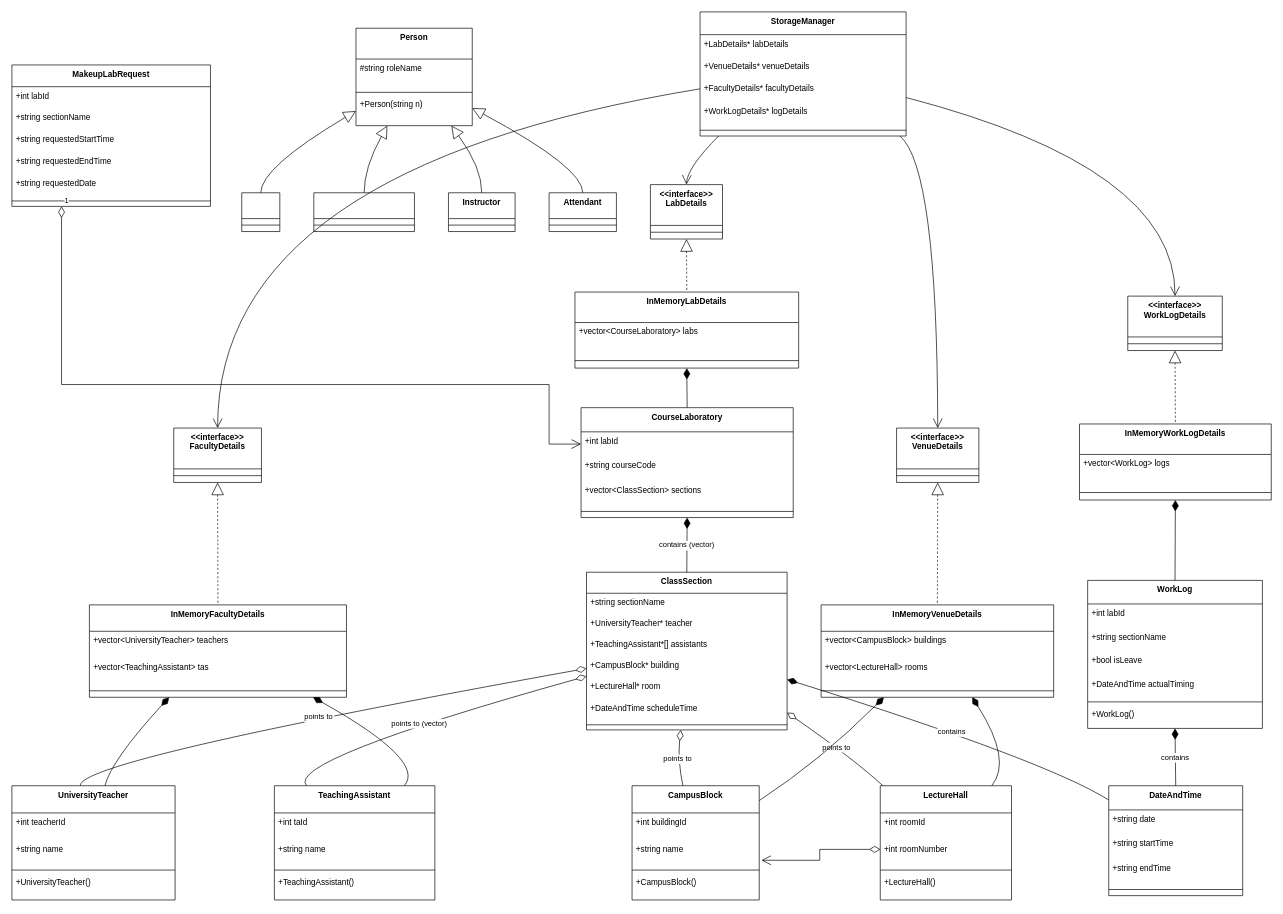
Some shapes in this 1283 by 914 pixel diagram are drawn without their labels. The centre of each missing label's shape, as x and y in pixels:
AcademicOfficer: (363,212)
HOD: (260,212)
